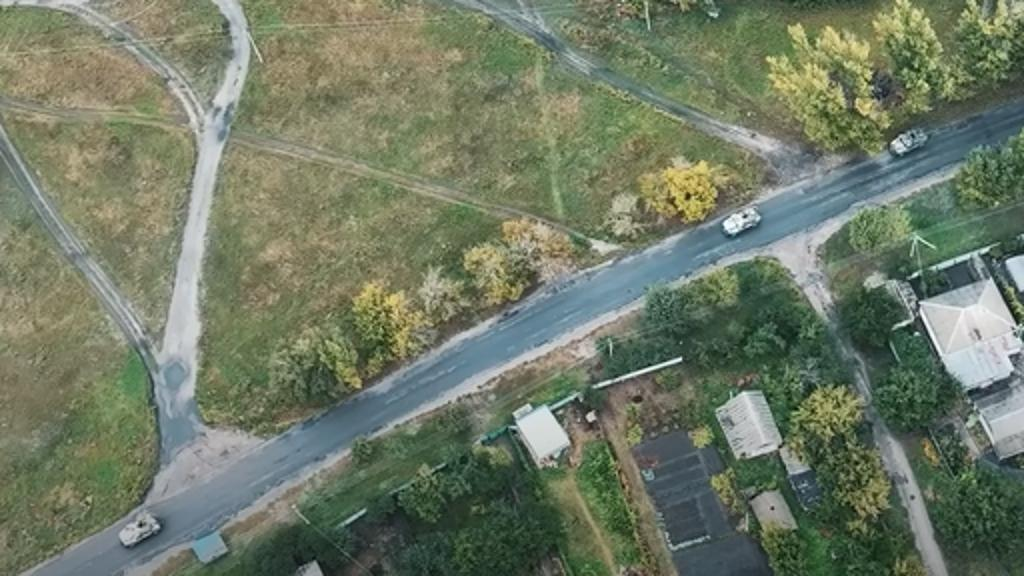CAR: (112, 502, 168, 550), (716, 196, 770, 240), (882, 118, 934, 162)
